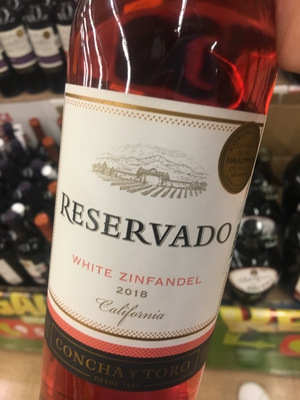reservado white zinfandel: (45, 12, 272, 400)
